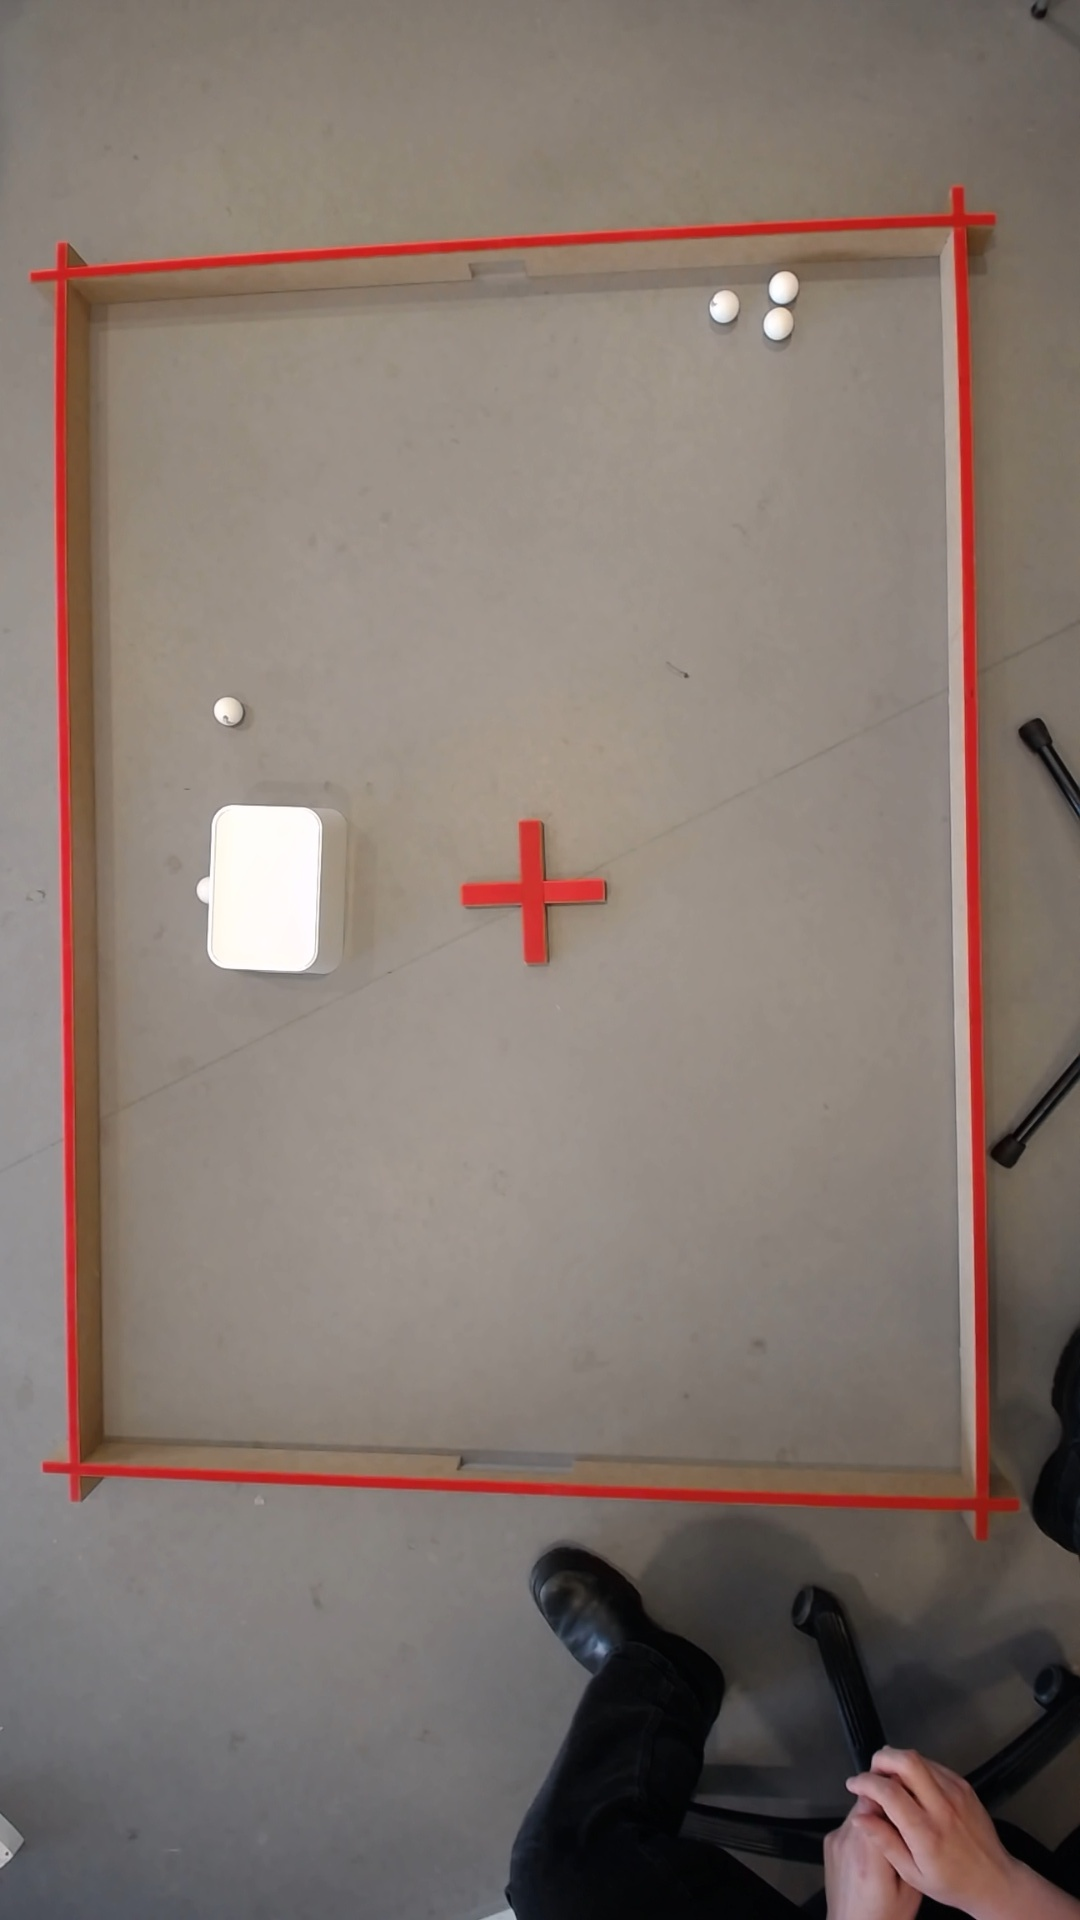balls: (193, 802, 323, 972), (762, 268, 798, 305), (757, 302, 791, 340), (705, 287, 736, 323)
car: (214, 698, 232, 720)
